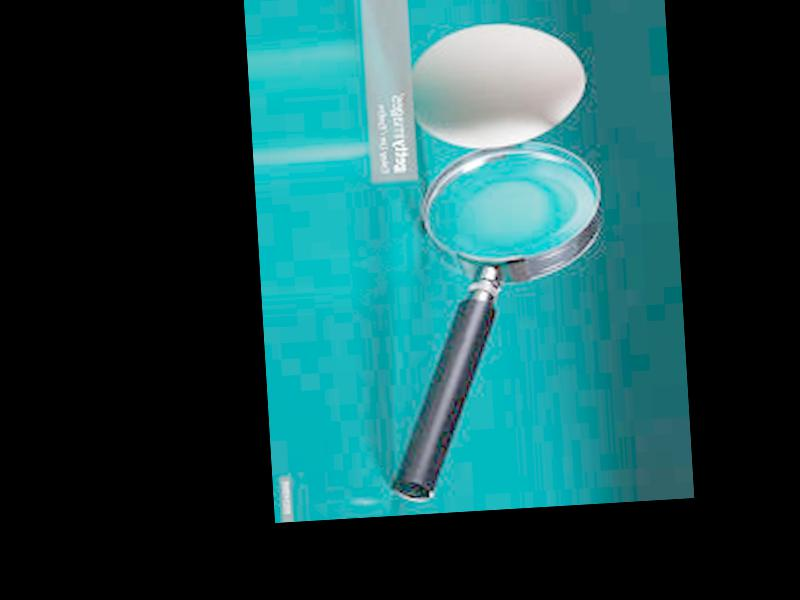Eggs: (406, 18, 589, 153)
